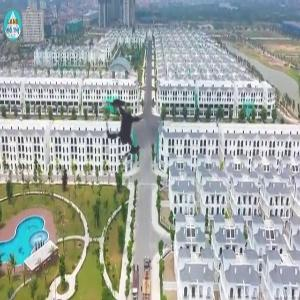drone: (74, 80, 177, 183)
